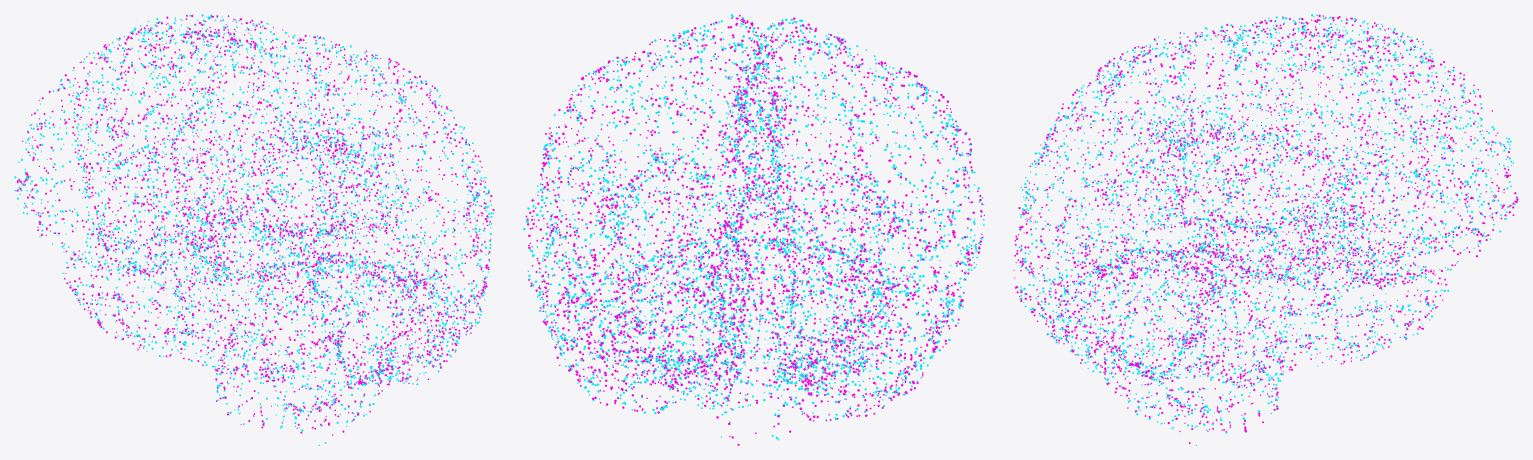
File: brain_hologram.glb
The picture shows the model from 3 angles, left to right: view 1: azimuth 30°, elevation 25°; view 2: azimuth 150°, elevation 25°; view 3: azimuth 270°, elevation 25°; orthographic projection. The views are drawn at different scales.
Visible parts, largest first — view 1: Icosphere.001; view 2: Icosphere.001; view 3: Icosphere.001.
Part boxes in pixels (left/top/right/bottom): Icosphere.001: left=14, top=14, right=494, bottom=445; Icosphere.001: left=523, top=14, right=984, bottom=445; Icosphere.001: left=1013, top=14, right=1518, bottom=445.
Size of the model in its own units: 1.09 by 1.1 by 1.3.
